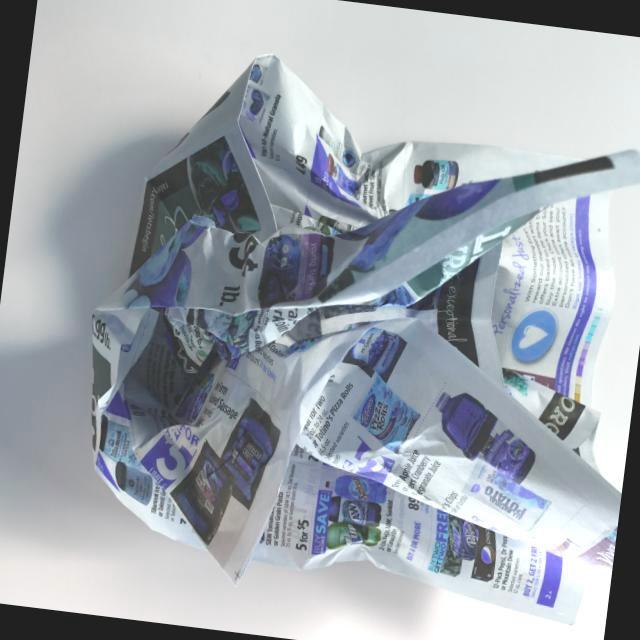paper: (19, 15, 640, 637)
